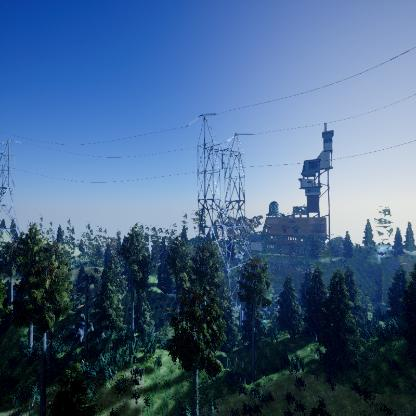tower: (180, 112, 266, 343)
